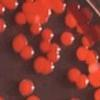red: (21, 0, 52, 24), (32, 52, 56, 78), (14, 76, 37, 97), (10, 31, 30, 55), (17, 43, 35, 62), (82, 49, 100, 68), (87, 65, 100, 90), (58, 30, 76, 48), (48, 0, 67, 16), (63, 12, 82, 28), (75, 70, 89, 91), (79, 6, 95, 24), (74, 45, 90, 62), (66, 68, 82, 84), (80, 33, 96, 49), (12, 11, 29, 26), (41, 25, 56, 41), (45, 50, 62, 64), (37, 39, 51, 56), (27, 23, 44, 37), (75, 23, 93, 36), (0, 0, 19, 12), (66, 1, 82, 13), (48, 42, 62, 55), (0, 17, 9, 35), (91, 24, 100, 41), (23, 93, 44, 100), (92, 87, 100, 100), (0, 2, 6, 16), (67, 95, 83, 100), (0, 94, 6, 100)
